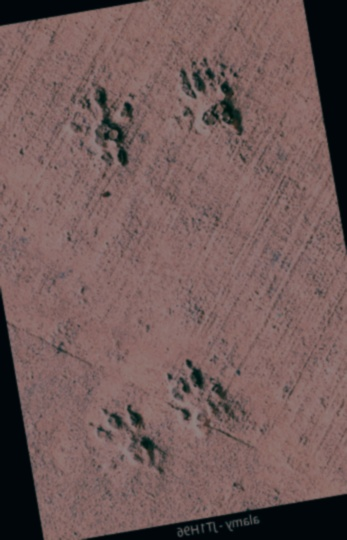ecureuil: (206, 378, 290, 487), (68, 53, 149, 164), (181, 64, 255, 173), (132, 354, 205, 447)
